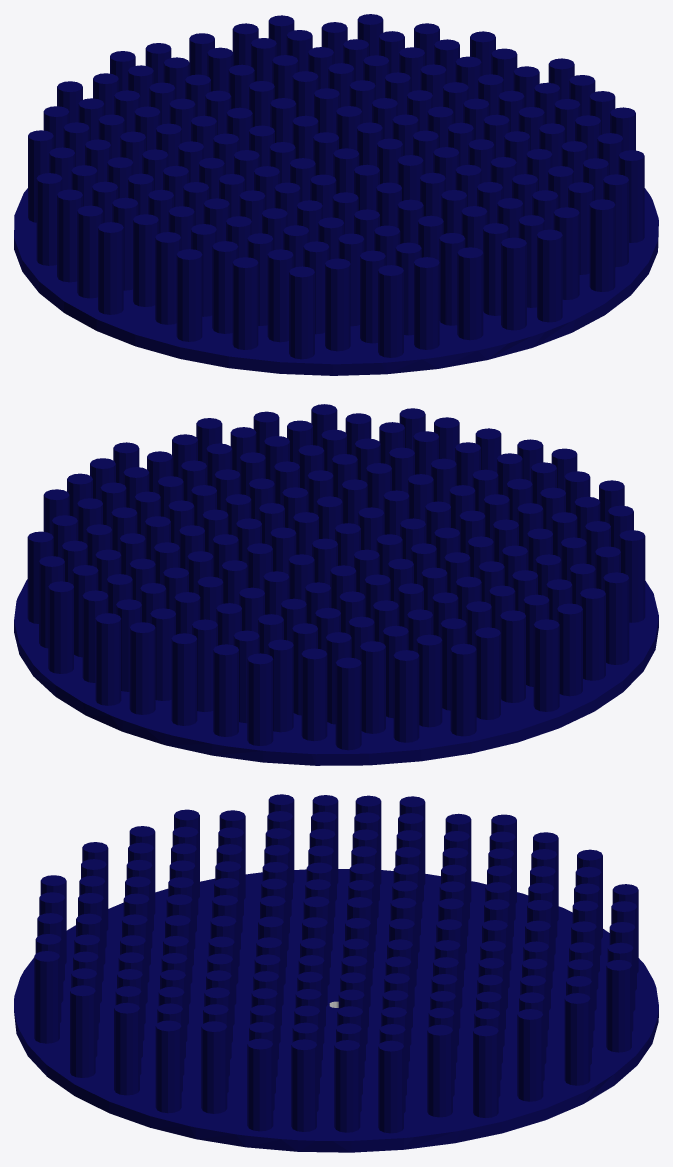
The model's file is mop_link.dae.
3 views of the same model, one above another, from view 1: azimuth 30°, elevation 25°; view 2: azimuth 150°, elevation 25°; view 3: azimuth 270°, elevation 25° (orthographic).
Visible parts, largest first — view 1: mop_link; view 2: mop_link; view 3: mop_link.
Part boxes in pixels (left/top/right/bottom): mop_link: left=14, top=14, right=658, bottom=375; mop_link: left=14, top=404, right=658, bottom=765; mop_link: left=14, top=794, right=658, bottom=1152.
Size of the model in its own units: 0.2499 by 0.2499 by 0.065.
